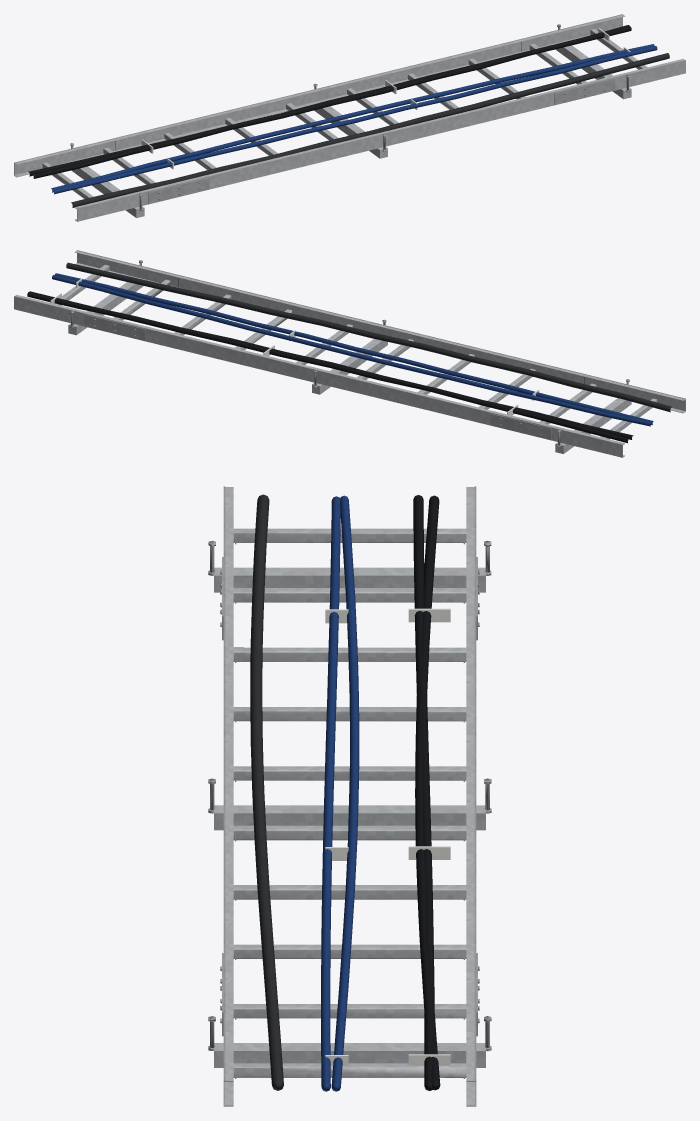
Rendered from cable-tray-ladder.glb.
3 views of the same model, one above another, from view 1: azimuth 30°, elevation 25°; view 2: azimuth 150°, elevation 25°; view 3: azimuth 270°, elevation 25° (orthographic). The views are drawn at different scales.
Visible parts, largest first — view 1: cable-tray-ladder; view 2: cable-tray-ladder; view 3: cable-tray-ladder.
Part boxes in pixels (box(x1,y1,x2,y2)): cable-tray-ladder: box(14, 14, 685, 221); cable-tray-ladder: box(14, 250, 685, 457); cable-tray-ladder: box(208, 486, 491, 1106).
Size of the model in its own units: 3 by 0.1099 by 0.6043.
9 materials, 8 textured.
